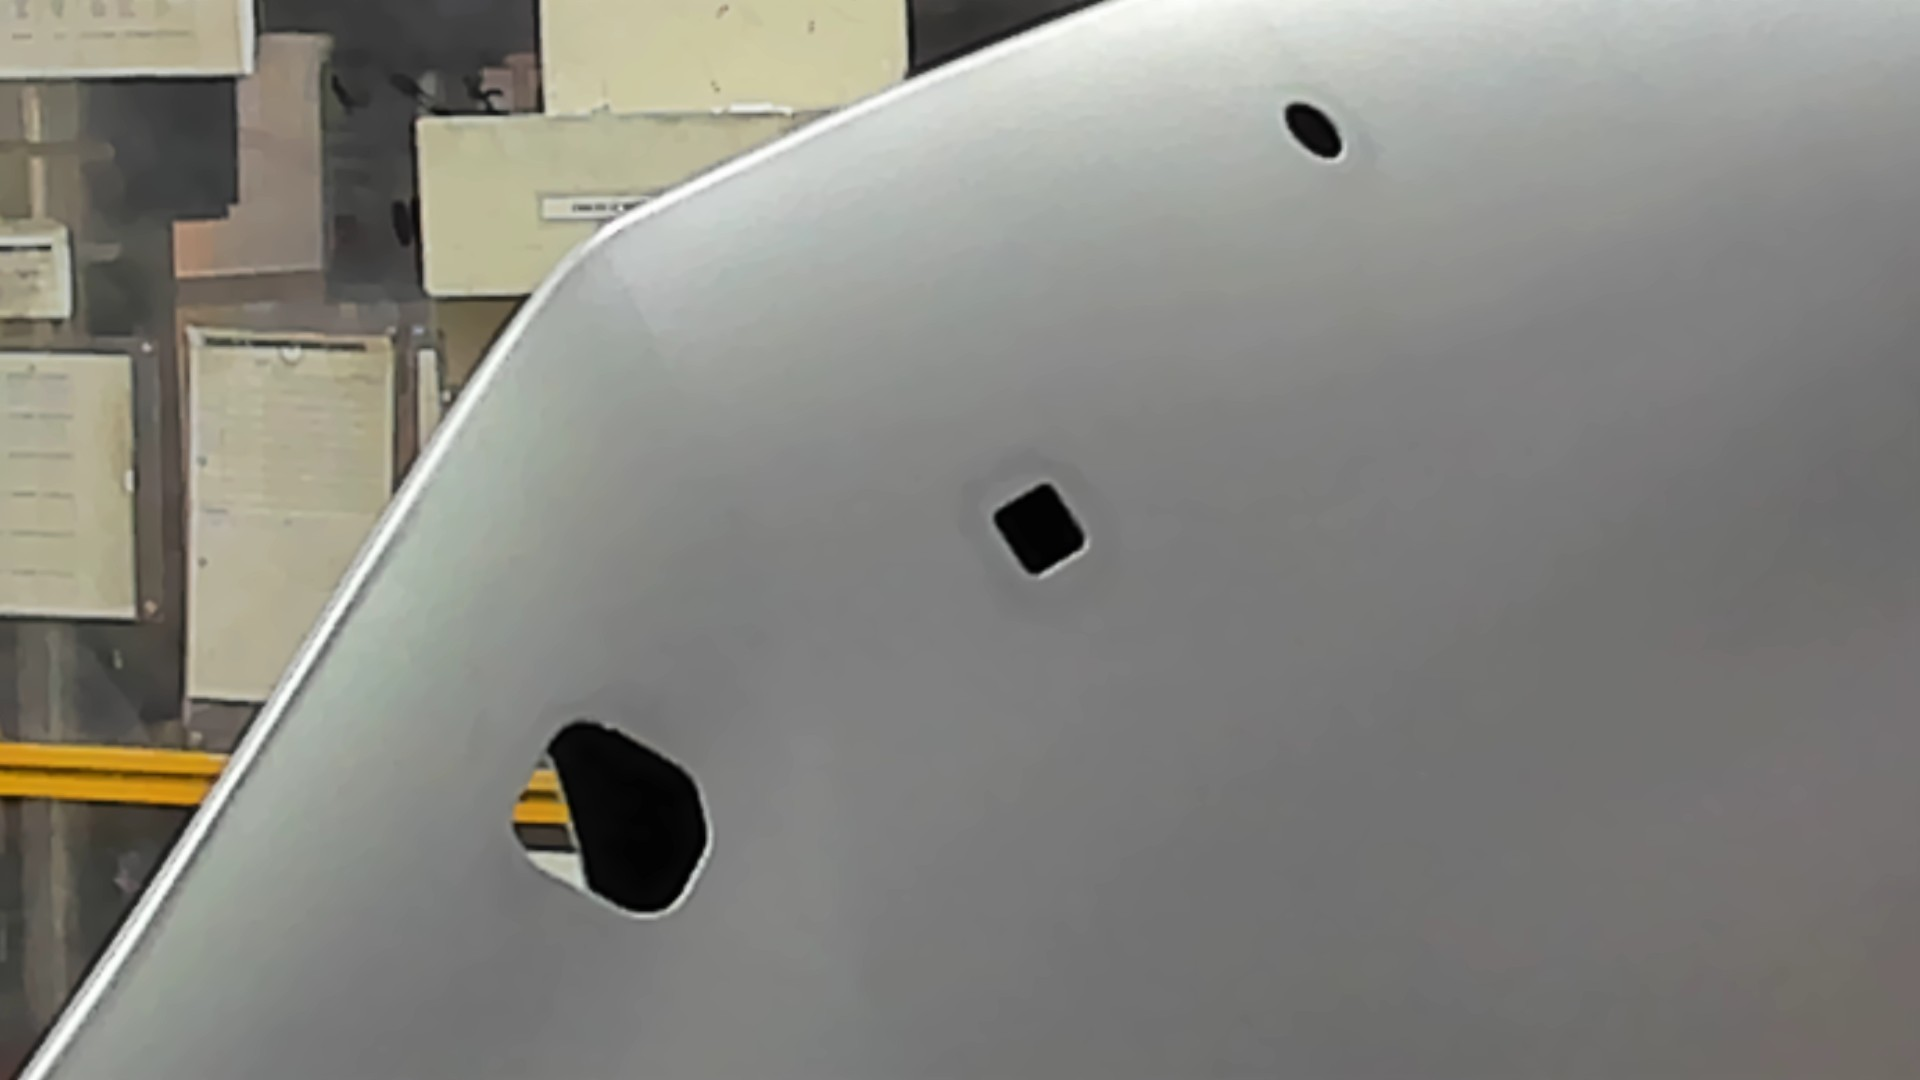chico: (1278, 98, 1348, 162)
grande: (506, 717, 716, 920)
mediano: (990, 476, 1091, 584)
